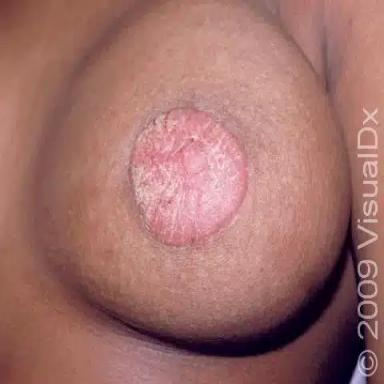Psoriasis: (128, 108, 247, 246)
